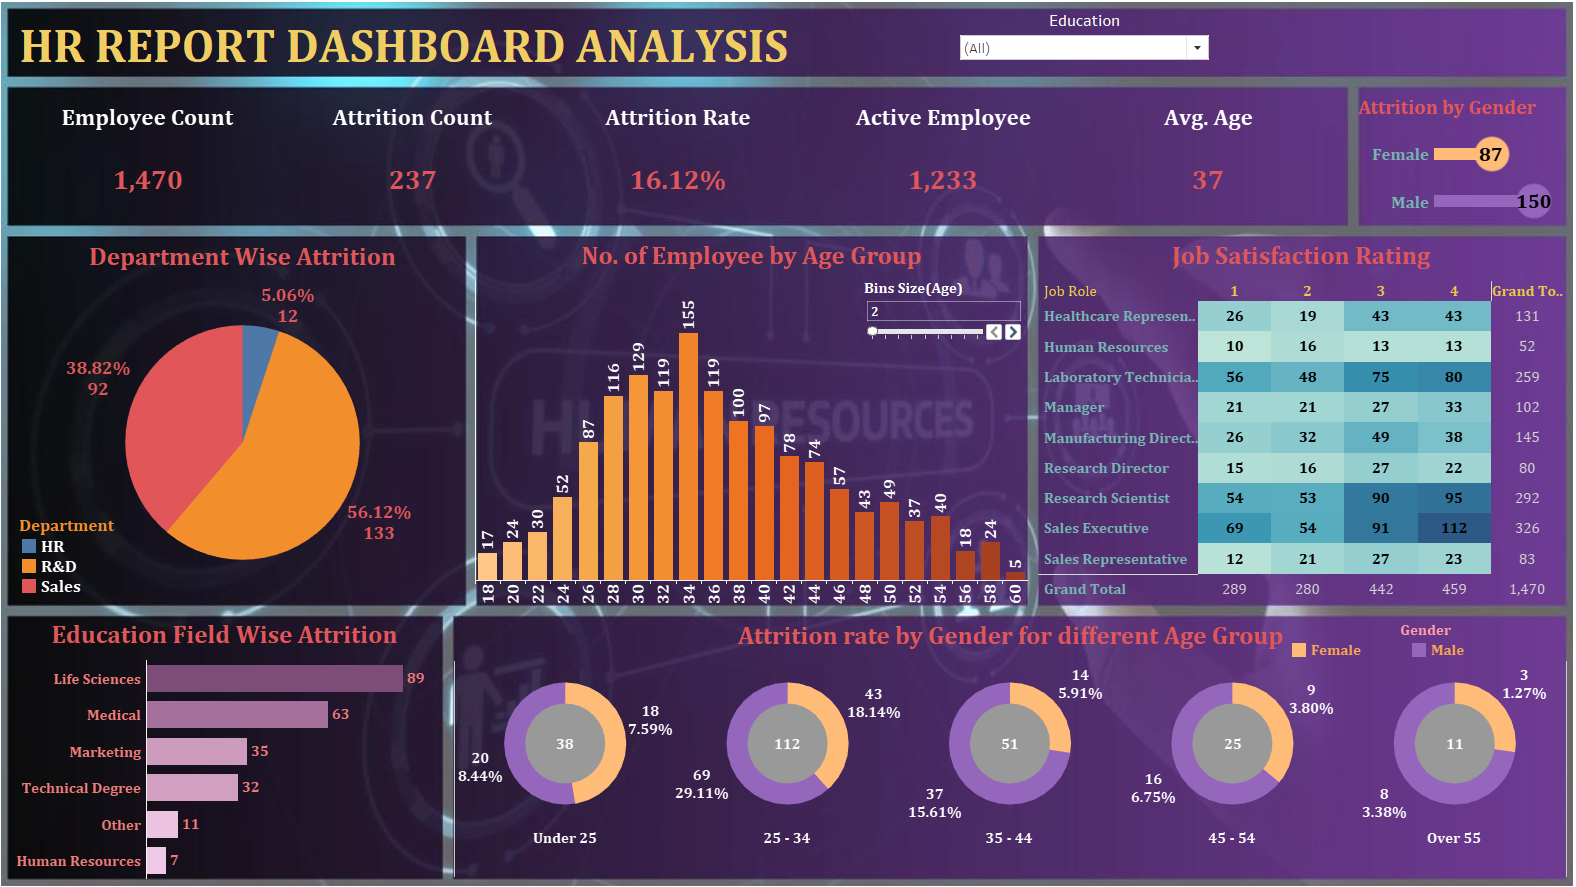

The dashboard page shown, as its layout file describes it:
{"tool":"tableau","page":{"name":"HR Dashboard","canvas":[1580,900],"ordinal":0},"visuals":[{"type":"image","param":"C:/ANKIT RAJ MISHRA/DATA ANALYST/Portfolio/2. HR Data set/HR dataset for Tableau","box":[0,0,1580,900]},{"type":"filter","title":"Department Wise Attrition","param":"[federated.04u04gt0q02a1013u8m411ksroaw].[none:Education:nk]","box":[960,16,255,68]},{"type":"text","box":[19,18,801,67]},{"type":"worksheet","title":"KPI","mark":"Automatic","box":[18,96,1326,137]},{"type":"worksheet","title":"Attrition by Gender","mark":"Bar","rows":["Gender"],"cols":["Calculation_1583578269260427264","Calculation_1583578269260427264"],"box":[1357,97,203,134]},{"type":"worksheet","title":"No. of Employee by Age Group","mark":"Automatic","rows":["Employee Count"],"cols":["Age (bin)"],"box":[478,242,553,369]},{"type":"worksheet","title":"Job Satisfaction Rating","mark":"Square","rows":["Job Role"],"cols":["Job Satisfaction"],"box":[1041,242,526,368]},{"type":"worksheet","title":"Department Wise Attrition","mark":"Pie","box":[18,243,455,366]},{"type":"parameter","param":"[Parameters].[Parameter 1]","box":[867,285,160,71]},{"type":"legend","title":"Department Wise Attrition","param":"[federated.04u04gt0q02a1013u8m411ksroaw].[none:Department:nk]","box":[22,521,140,85]},{"type":"worksheet","title":"Education Field Wise Attrition","mark":"Automatic","rows":["Education Field"],"cols":["Calculation_1583578269260427264"],"box":[9,621,437,264]},{"type":"worksheet","title":"Attrition rate by Gender for different Age Group","mark":"Pie","rows":["Calculation_1583578269363040261","Calculation_1583578269363040261"],"cols":["CF_age band"],"box":[457,622,1113,262]},{"type":"legend","title":"Attrition rate by Gender for different Age Group","param":"[federated.04u04gt0q02a1013u8m411ksroaw].[none:Gender:nk]","box":[1292,627,273,46]}]}

Visuals, with their boxes in screenshot pixels (x1, y1, x2, y2), scaled from the page's 1580x900 canvas onto the 1576x887 screenshot:
image: box=[0, 0, 1575, 886]
"Department Wise Attrition" filter: box=[958, 16, 1212, 83]
text: box=[19, 18, 818, 84]
"KPI" worksheet: box=[18, 95, 1341, 230]
"Attrition by Gender" worksheet (Bar marks): box=[1354, 96, 1556, 228]
"No. of Employee by Age Group" worksheet: box=[477, 239, 1028, 602]
"Job Satisfaction Rating" worksheet (Square marks): box=[1038, 239, 1563, 601]
"Department Wise Attrition" worksheet (Pie marks): box=[18, 239, 472, 600]
parameter: box=[865, 281, 1024, 351]
"Department Wise Attrition" legend: box=[22, 513, 162, 597]
"Education Field Wise Attrition" worksheet: box=[9, 612, 445, 872]
"Attrition rate by Gender for different Age Group" worksheet (Pie marks): box=[456, 613, 1566, 871]
"Attrition rate by Gender for different Age Group" legend: box=[1289, 618, 1561, 663]
